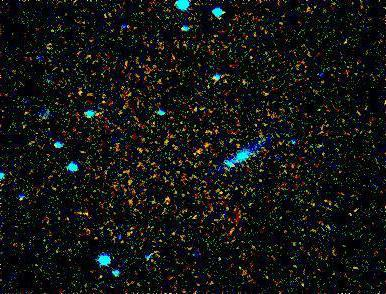star: (109, 225, 139, 255)
